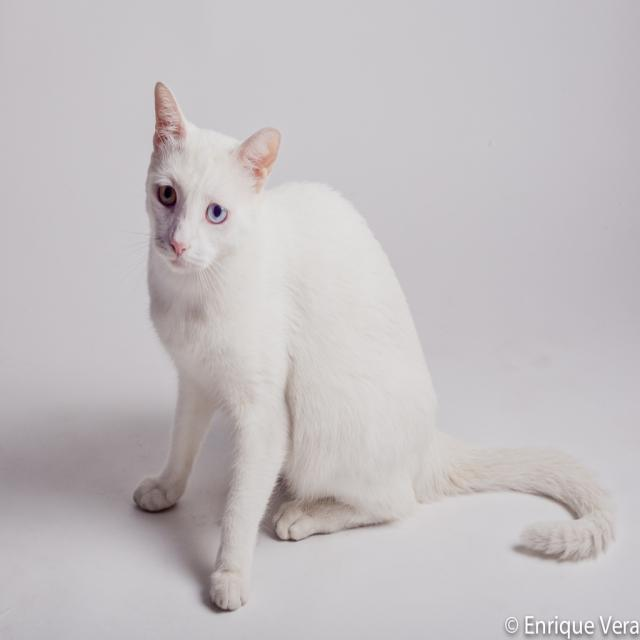Cat: (132, 80, 618, 608)
